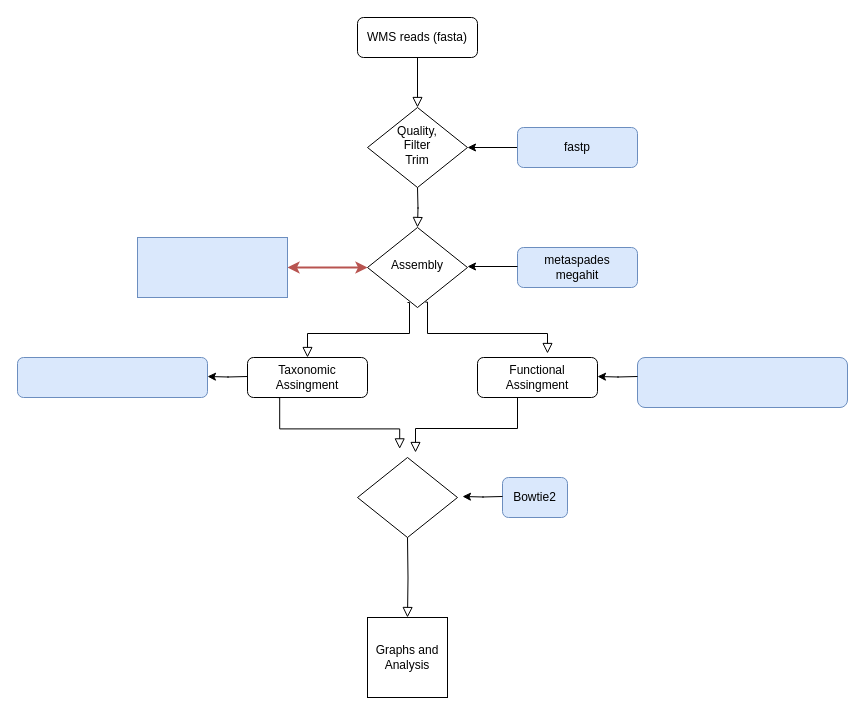
This 865x715 diagram has some shape labels left out. The centre of each missing label's shape, as x and y in pixels:
"Hmmer Diamond (Genbank)" belongs at point (112, 377).
"Hmmer Diamond (KEGG, Interpro) Orfm" belongs at point (742, 382).
"Mapping" belongs at point (407, 497).
"Precluster wiht mmseq2 + emaper" belongs at point (212, 267).
